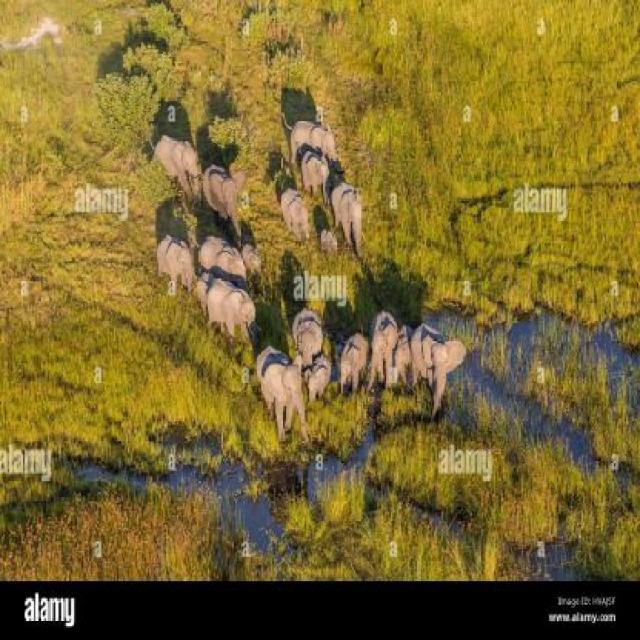elephant: (245, 350, 313, 461), (409, 321, 469, 417), (276, 295, 327, 371), (281, 99, 341, 159), (144, 231, 196, 297), (152, 132, 200, 200), (202, 153, 248, 221), (366, 308, 403, 390), (196, 227, 250, 282), (330, 174, 370, 246), (210, 276, 252, 344), (298, 341, 333, 417), (390, 307, 421, 385), (273, 188, 312, 242), (338, 319, 362, 386), (295, 153, 334, 193), (244, 225, 270, 272), (198, 263, 218, 317), (317, 215, 341, 256)
